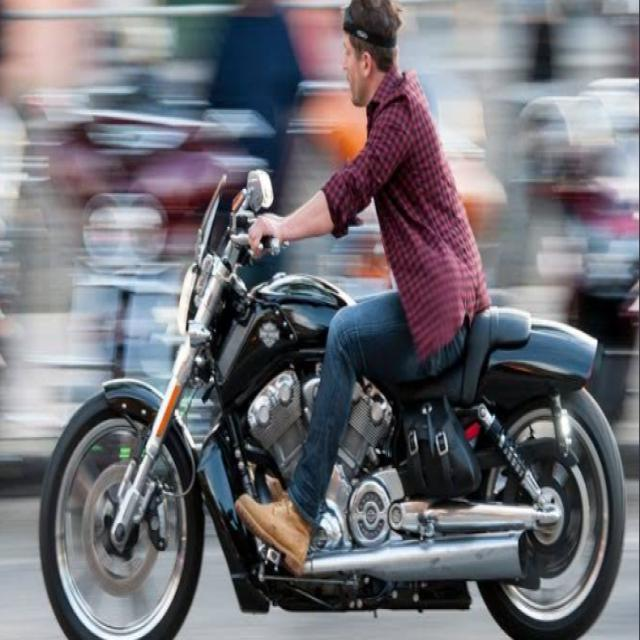WithoutHelmet: (235, 0, 492, 575)
